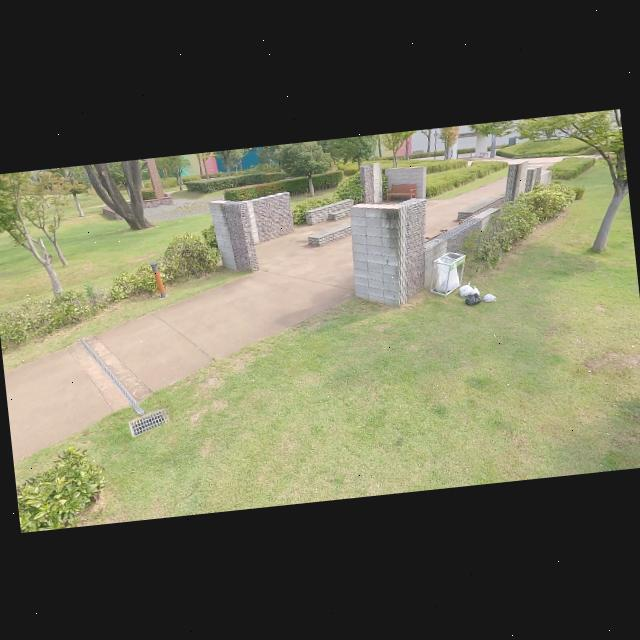trash: (454, 280, 472, 298), (482, 288, 499, 304), (464, 291, 479, 305), (469, 283, 482, 294)
